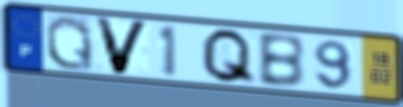1: (156, 23, 177, 79)
9: (311, 38, 357, 91)
B: (255, 32, 307, 90)
Q: (198, 27, 259, 87), (43, 13, 96, 73)
V: (91, 14, 153, 76)
